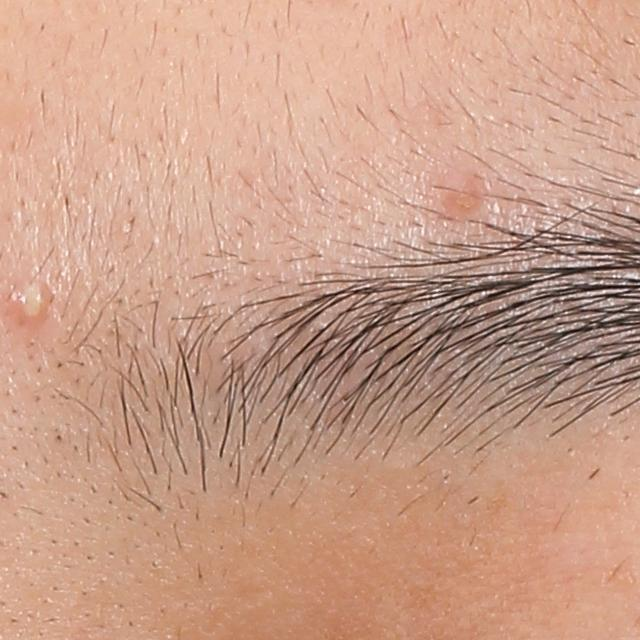pustule: (12, 279, 53, 327)
